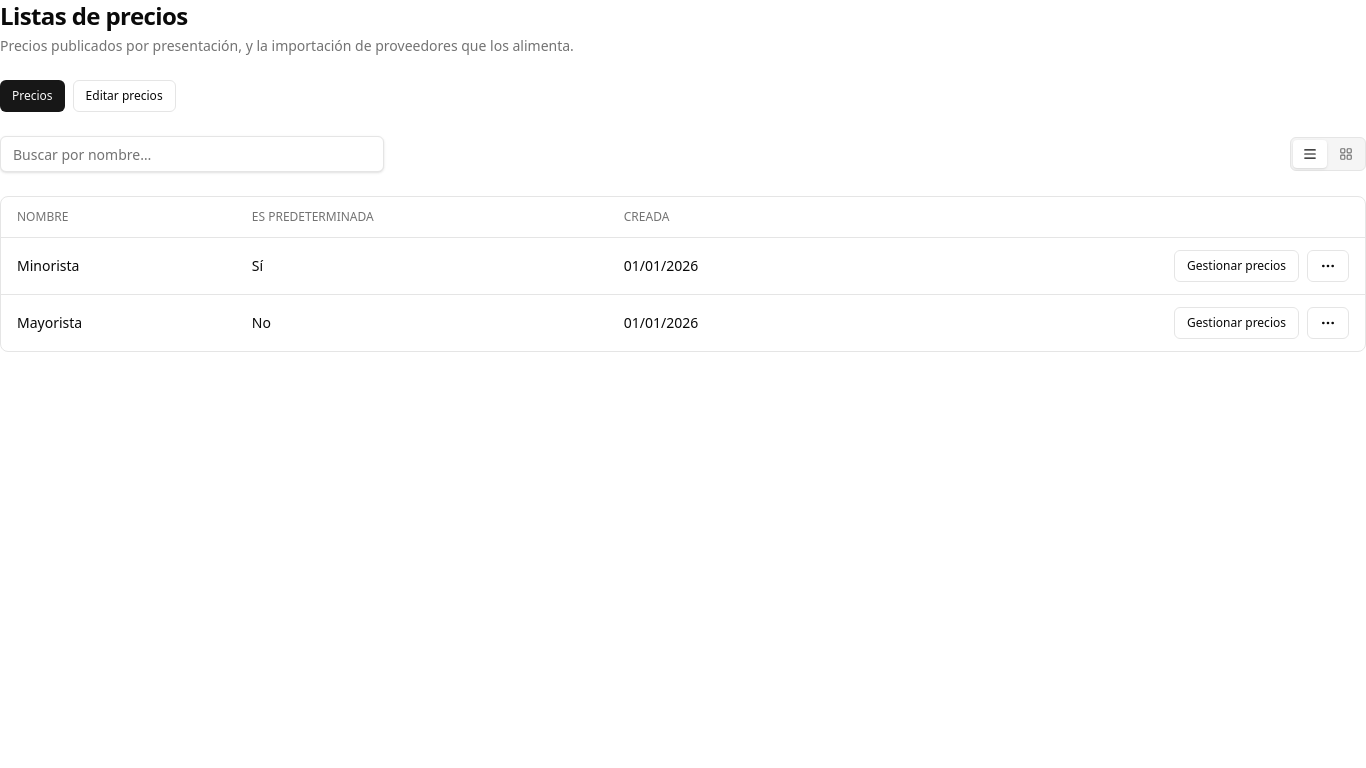
Test: PriceListsScreen "Editar precios" tab › marks an individually edited row as changed with old -> new and the difference
Check: the text "Minorista" is shown, box x1=1 y1=238 x2=236 y2=294
Click the button "Editar precios".
click(124, 96)  # box x1=73 y1=80 x2=176 y2=112
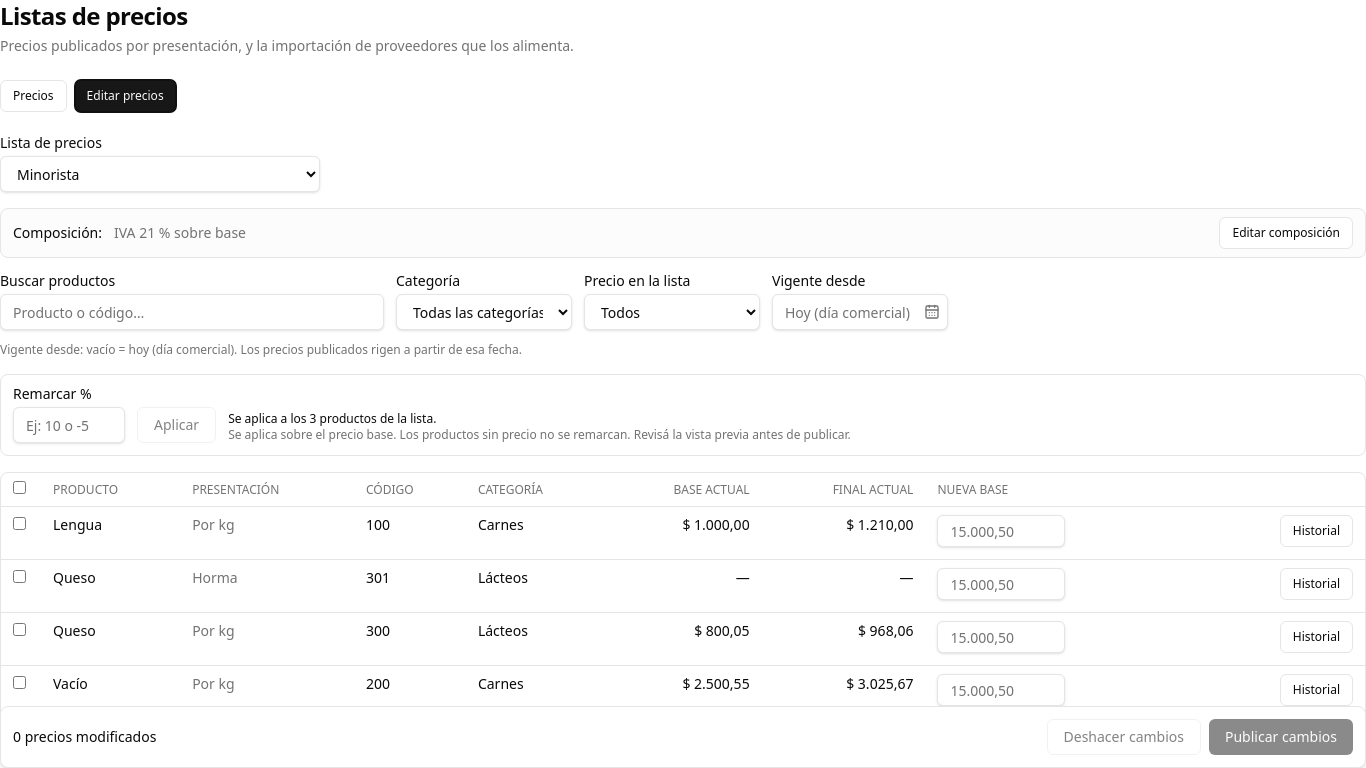
Check: the text "Lengua" is shown, box x1=41 y1=506 x2=180 y2=560
Type "1100" into the field named "Nueva base de Lengua".
click(1001, 531); type("1100")  # box x1=937 y1=515 x2=1065 y2=547
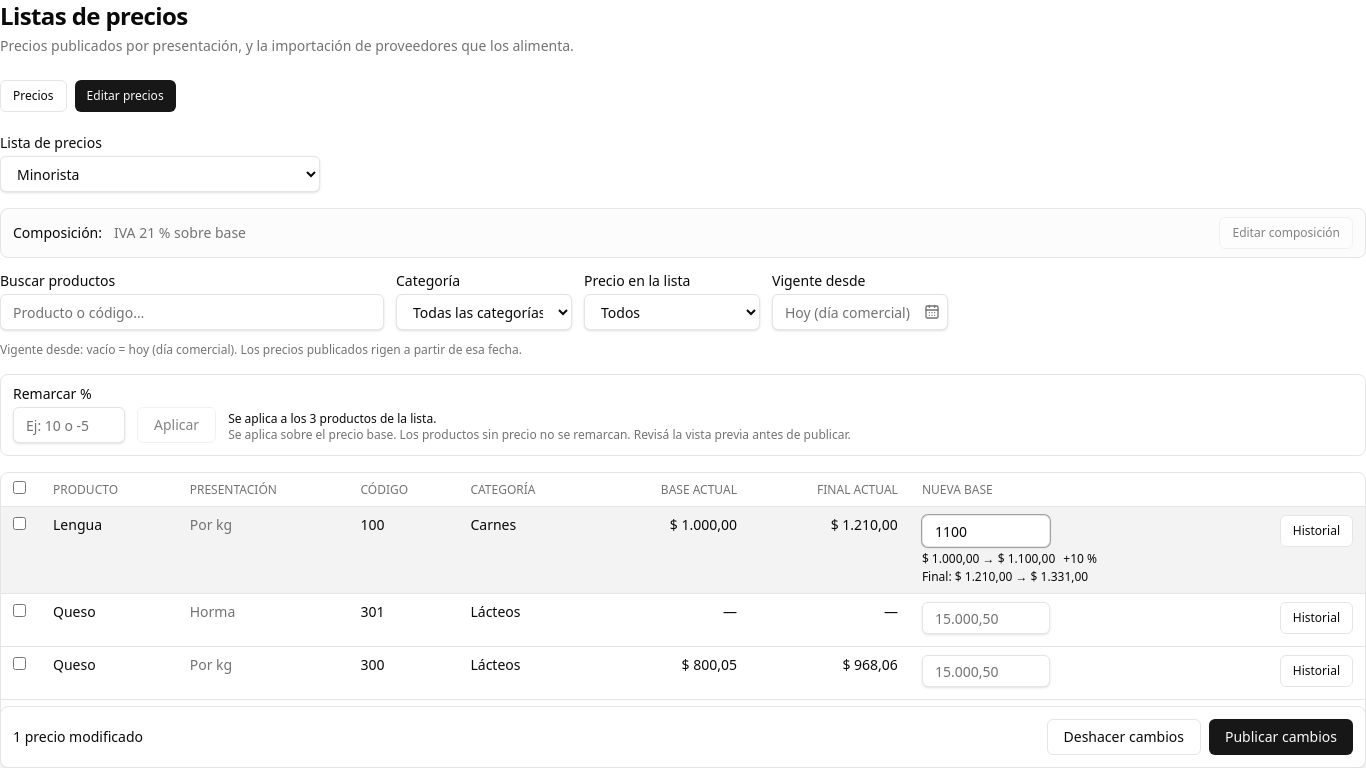
Check: the text "$ 1.000,00 → $ 1.100,00" is shown, box x1=922 y1=551 x2=1055 y2=567
Check: the text "+10 %" is shown, box x1=1063 y1=551 x2=1097 y2=567
Check: the text "1 precio modificado" is shown, box x1=13 y1=727 x2=143 y2=747
